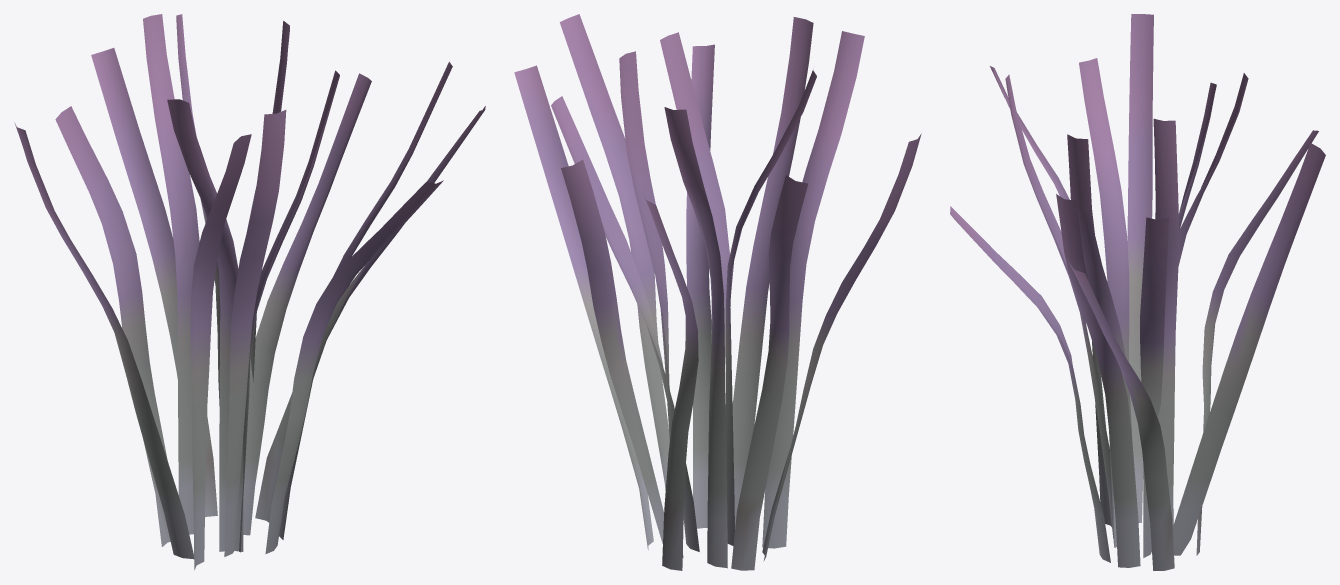
3 renders of one model, left to right at view 1: azimuth 30°, elevation 25°; view 2: azimuth 150°, elevation 25°; view 3: azimuth 270°, elevation 25°, orthographic. The views are drawn at different scales.
Visible parts, largest first — view 1: G:\FFXIV-MapTools\exports\e3f2\bg\ex2\02_est_e3\common\bgpar; view 2: G:\FFXIV-MapTools\exports\e3f2\bg\ex2\02_est_e3\common\bgpar; view 3: G:\FFXIV-MapTools\exports\e3f2\bg\ex2\02_est_e3\common\bgpar.
Boxes of the visible parts, x1,y1,x2,y2 form: G:\FFXIV-MapTools\exports\e3f2\bg\ex2\02_est_e3\common\bgpar: (14, 14, 485, 570); G:\FFXIV-MapTools\exports\e3f2\bg\ex2\02_est_e3\common\bgpar: (514, 14, 921, 570); G:\FFXIV-MapTools\exports\e3f2\bg\ex2\02_est_e3\common\bgpar: (950, 14, 1325, 570).
Size of the model in its own units: 7.91 by 8.48 by 6.26.
